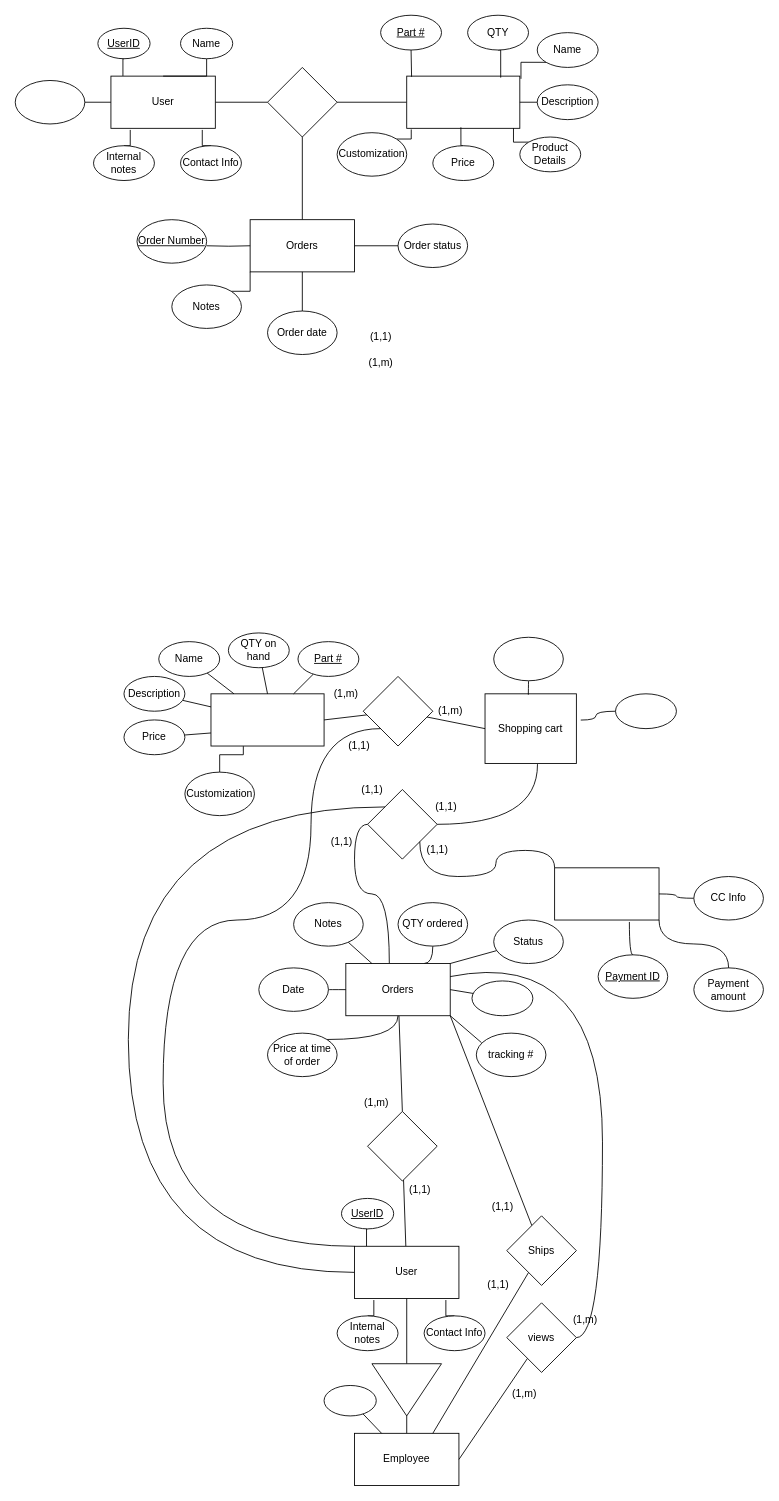
Some shapes in this 779 by 1501 pixel diagram are drawn without their labels. Each missing label, with the box of its shape:
added to: (362, 676, 433, 746)
Buys: (267, 67, 337, 137)
Cart ID: (493, 636, 563, 681)
EMPL ID: (323, 1385, 376, 1416)
Generates: (367, 789, 437, 859)
has: (367, 1111, 437, 1181)
Order history: (14, 80, 85, 124)
Order ID: (471, 980, 533, 1016)
Payment: (554, 867, 659, 920)
Product: (210, 693, 324, 746)
Products: (406, 75, 520, 128)
QTY requested: (615, 693, 676, 729)
SD: (371, 1363, 442, 1416)
